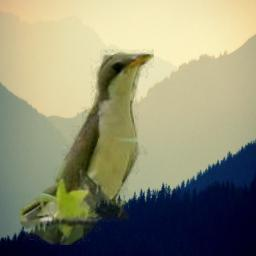Cuckoo: (20, 48, 154, 245)
